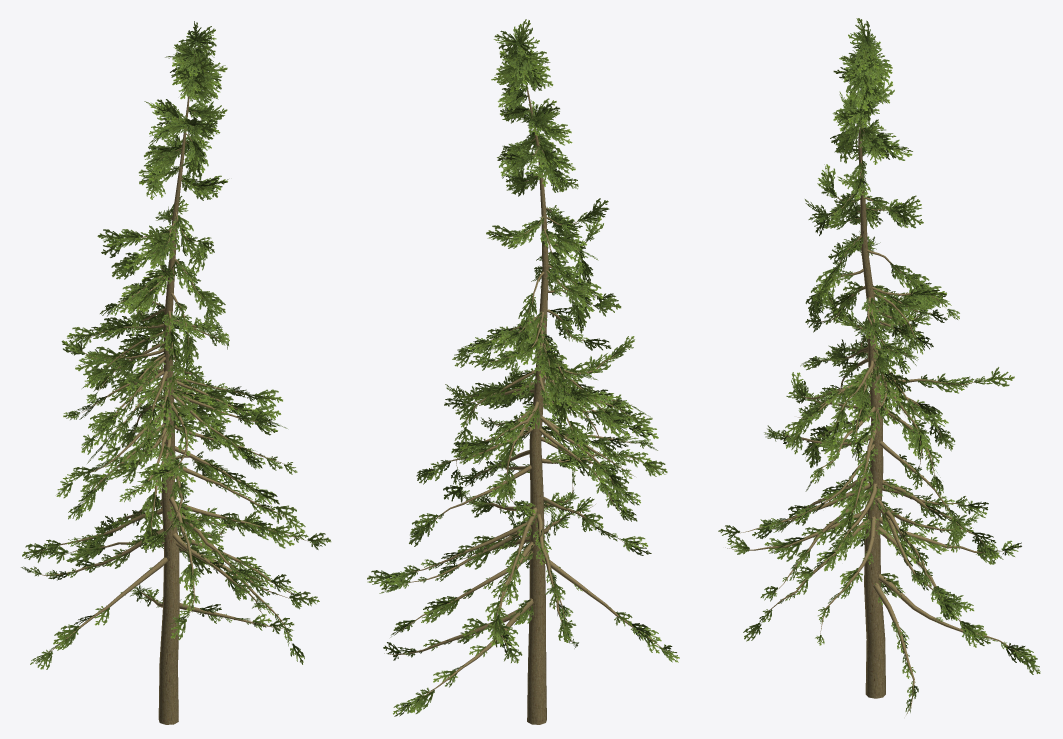
File: YoungPine.glb
The picture shows the model from 3 angles, left to right: view 1: azimuth 30°, elevation 25°; view 2: azimuth 150°, elevation 25°; view 3: azimuth 270°, elevation 25°; orthographic projection. The views are drawn at different scales.
Visible parts, largest first — view 1: YoungPine canopy, YoungPine trunk; view 2: YoungPine canopy, YoungPine trunk; view 3: YoungPine canopy, YoungPine trunk.
Part boxes in pixels (x1,y1,x2,y2): YoungPine canopy: [21, 21, 331, 669]; YoungPine trunk: [36, 47, 310, 724]; YoungPine canopy: [367, 19, 679, 716]; YoungPine trunk: [384, 55, 665, 724]; YoungPine canopy: [718, 18, 1040, 713]; YoungPine trunk: [725, 107, 1019, 714].
Size of the model in its own units: 3.39 by 8 by 3.51.
2 materials, 2 textured.
